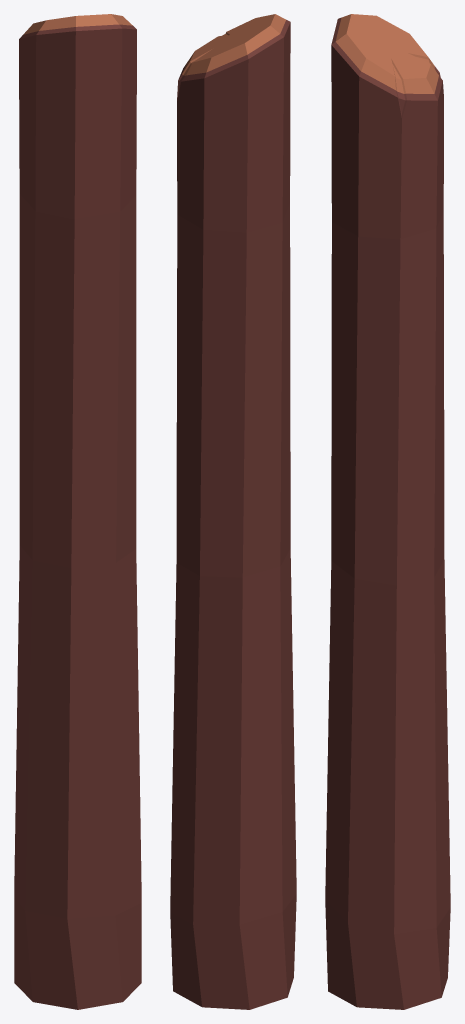
The model's file is Wooden Pole Blunt 13.fbx.
3 views of the same model, side by side, from view 1: azimuth 90°, elevation 25°; view 2: azimuth 150°, elevation 25°; view 3: azimuth 330°, elevation 25° (orthographic). The views are drawn at different scales.
Visible parts, largest first — view 1: Wooden Pole Blunt 13; view 2: Wooden Pole Blunt 13; view 3: Wooden Pole Blunt 13.
Part boxes in pixels (x1=…): Wooden Pole Blunt 13: x1=14, y1=14, x2=141, y2=1009; Wooden Pole Blunt 13: x1=170, y1=14, x2=296, y2=1009; Wooden Pole Blunt 13: x1=325, y1=14, x2=450, y2=1009.
Bounding box in the file's own units: 32.82 × 280 × 32.82.
